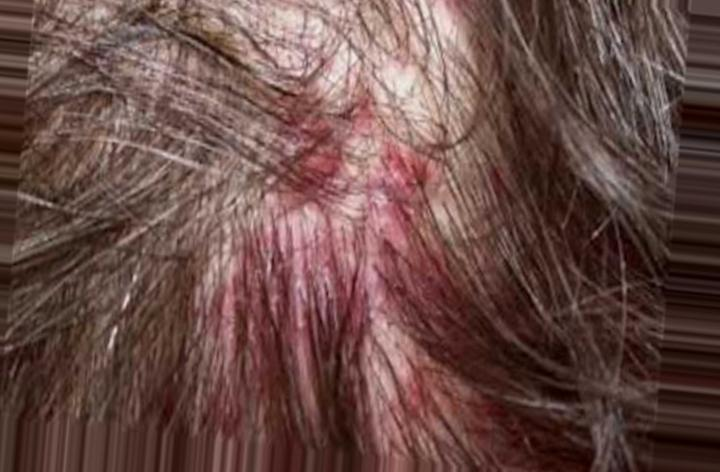Folliculitis: (210, 83, 435, 351)
